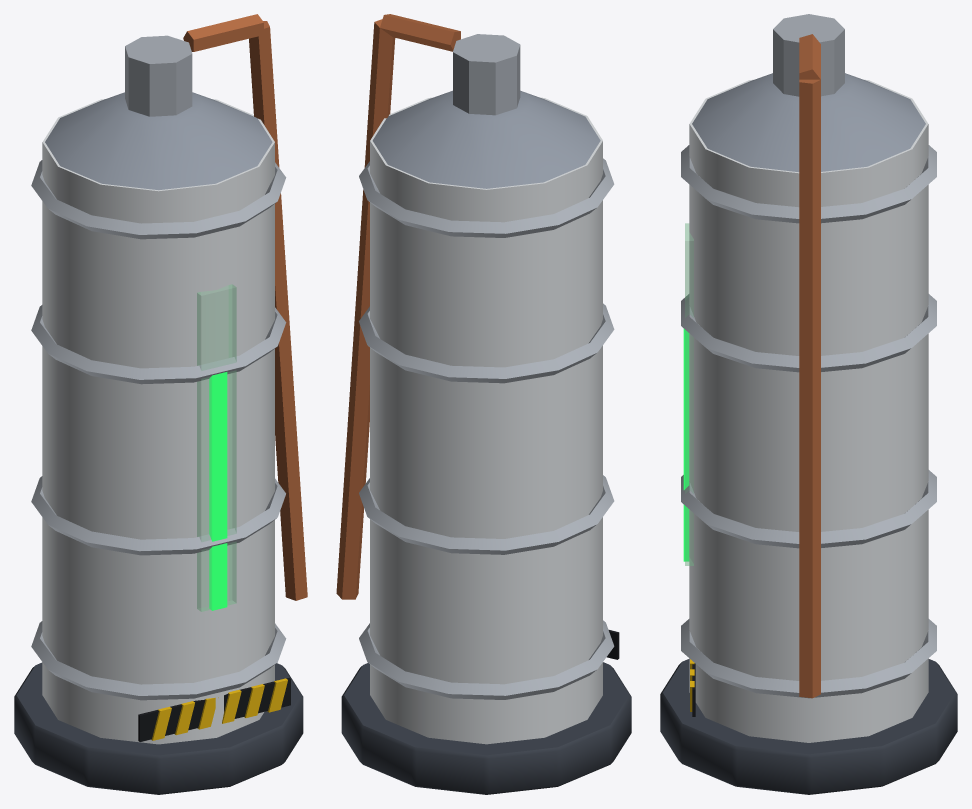
Rendered from capacitor_fuel_cell_tower.glb.
The picture shows the model from 3 angles, left to right: view 1: azimuth 30°, elevation 25°; view 2: azimuth 150°, elevation 25°; view 3: azimuth 270°, elevation 25°; orthographic projection. The views are drawn at different scales.
Visible parts, largest first — view 1: capacitor_fuel_cell_tower; view 2: capacitor_fuel_cell_tower; view 3: capacitor_fuel_cell_tower.
Part boxes in pixels (x1,y1,x2,y2): capacitor_fuel_cell_tower: (14,14,307,794); capacitor_fuel_cell_tower: (336,14,631,794); capacitor_fuel_cell_tower: (660,14,957,794).
Bounding box in the file's own units: 1.09 × 2.64 × 0.9948.
